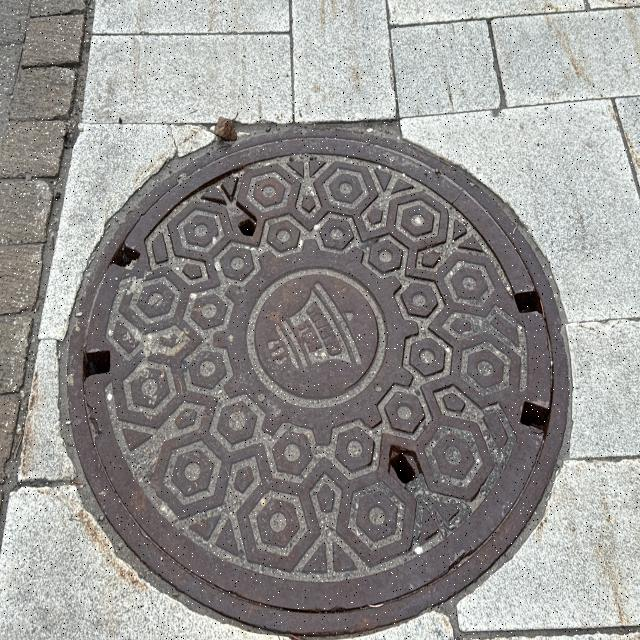Manhole: (66, 130, 572, 633)
